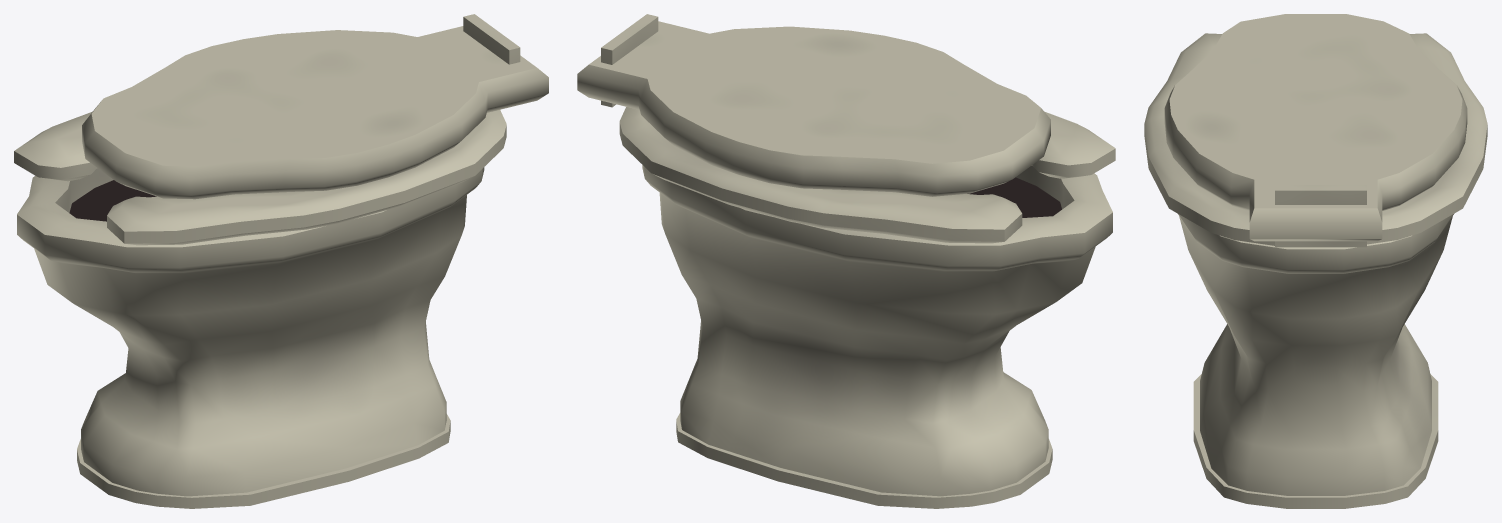
Rendered from SM_Toilet_Bowl.fbx.
3 renders of one model, left to right at view 1: azimuth 30°, elevation 25°; view 2: azimuth 150°, elevation 25°; view 3: azimuth 270°, elevation 25°, orthographic.
Parts seen in each view (by area): view 1: SM_Toilet_Bowl; view 2: SM_Toilet_Bowl; view 3: SM_Toilet_Bowl.
Boxes of the visible parts, x1,y1,x2,y2 form: SM_Toilet_Bowl: (14,14,548,508); SM_Toilet_Bowl: (577,14,1115,508); SM_Toilet_Bowl: (1144,14,1487,508).
Bounding box in the file's own units: 77.72 × 47.43 × 54.05.
1 material, 1 textured.
